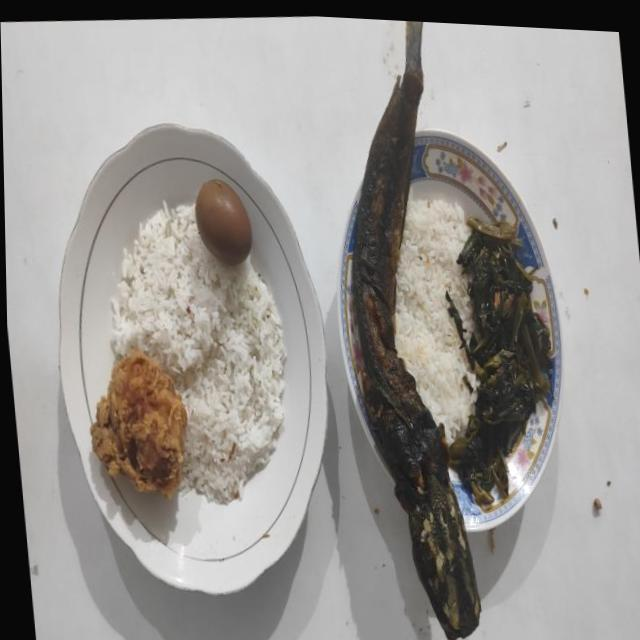nasi_putih: (110, 203, 286, 504), (395, 194, 477, 443)
tumis_kangkung: (445, 218, 554, 509)
